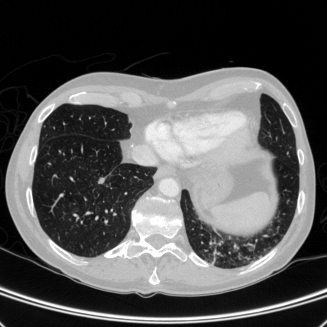nodule: (97, 177, 105, 185)
